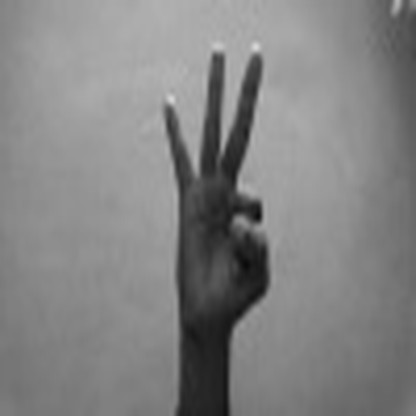f: (146, 39, 285, 338)
